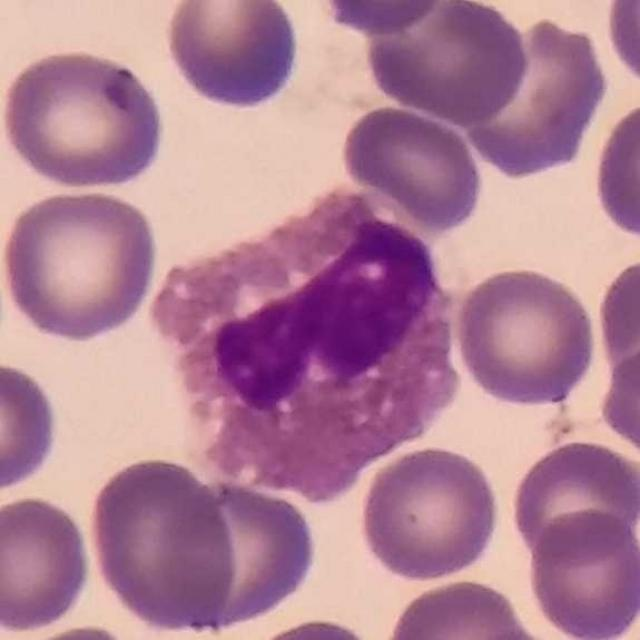Eosinophil: (156, 198, 462, 492)
RBC: (84, 452, 242, 635), (159, 474, 323, 636), (457, 11, 612, 182), (0, 185, 161, 344), (0, 42, 170, 192), (450, 262, 601, 409), (361, 1, 532, 126), (355, 442, 504, 584), (338, 102, 487, 232), (506, 435, 640, 563), (160, 1, 306, 115), (523, 507, 640, 640), (0, 492, 95, 634), (383, 575, 542, 640), (0, 356, 63, 497), (589, 95, 640, 247), (592, 252, 640, 401), (595, 338, 640, 471), (309, 0, 453, 38), (230, 613, 386, 640), (601, 0, 640, 92)
